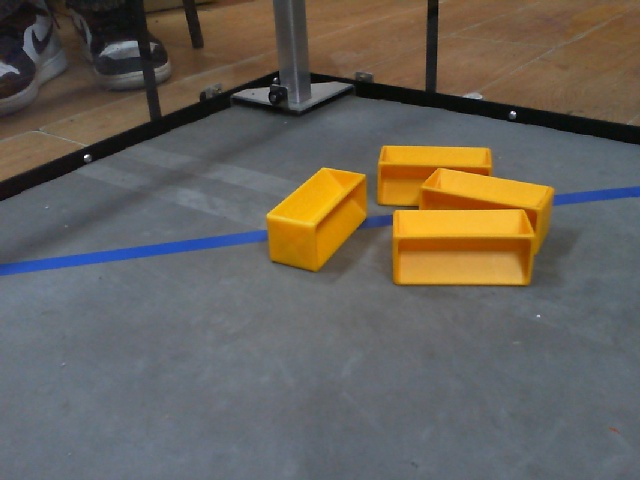YellowSample: (418, 163, 555, 251), (387, 209, 535, 289), (263, 163, 364, 271), (377, 139, 490, 211)
